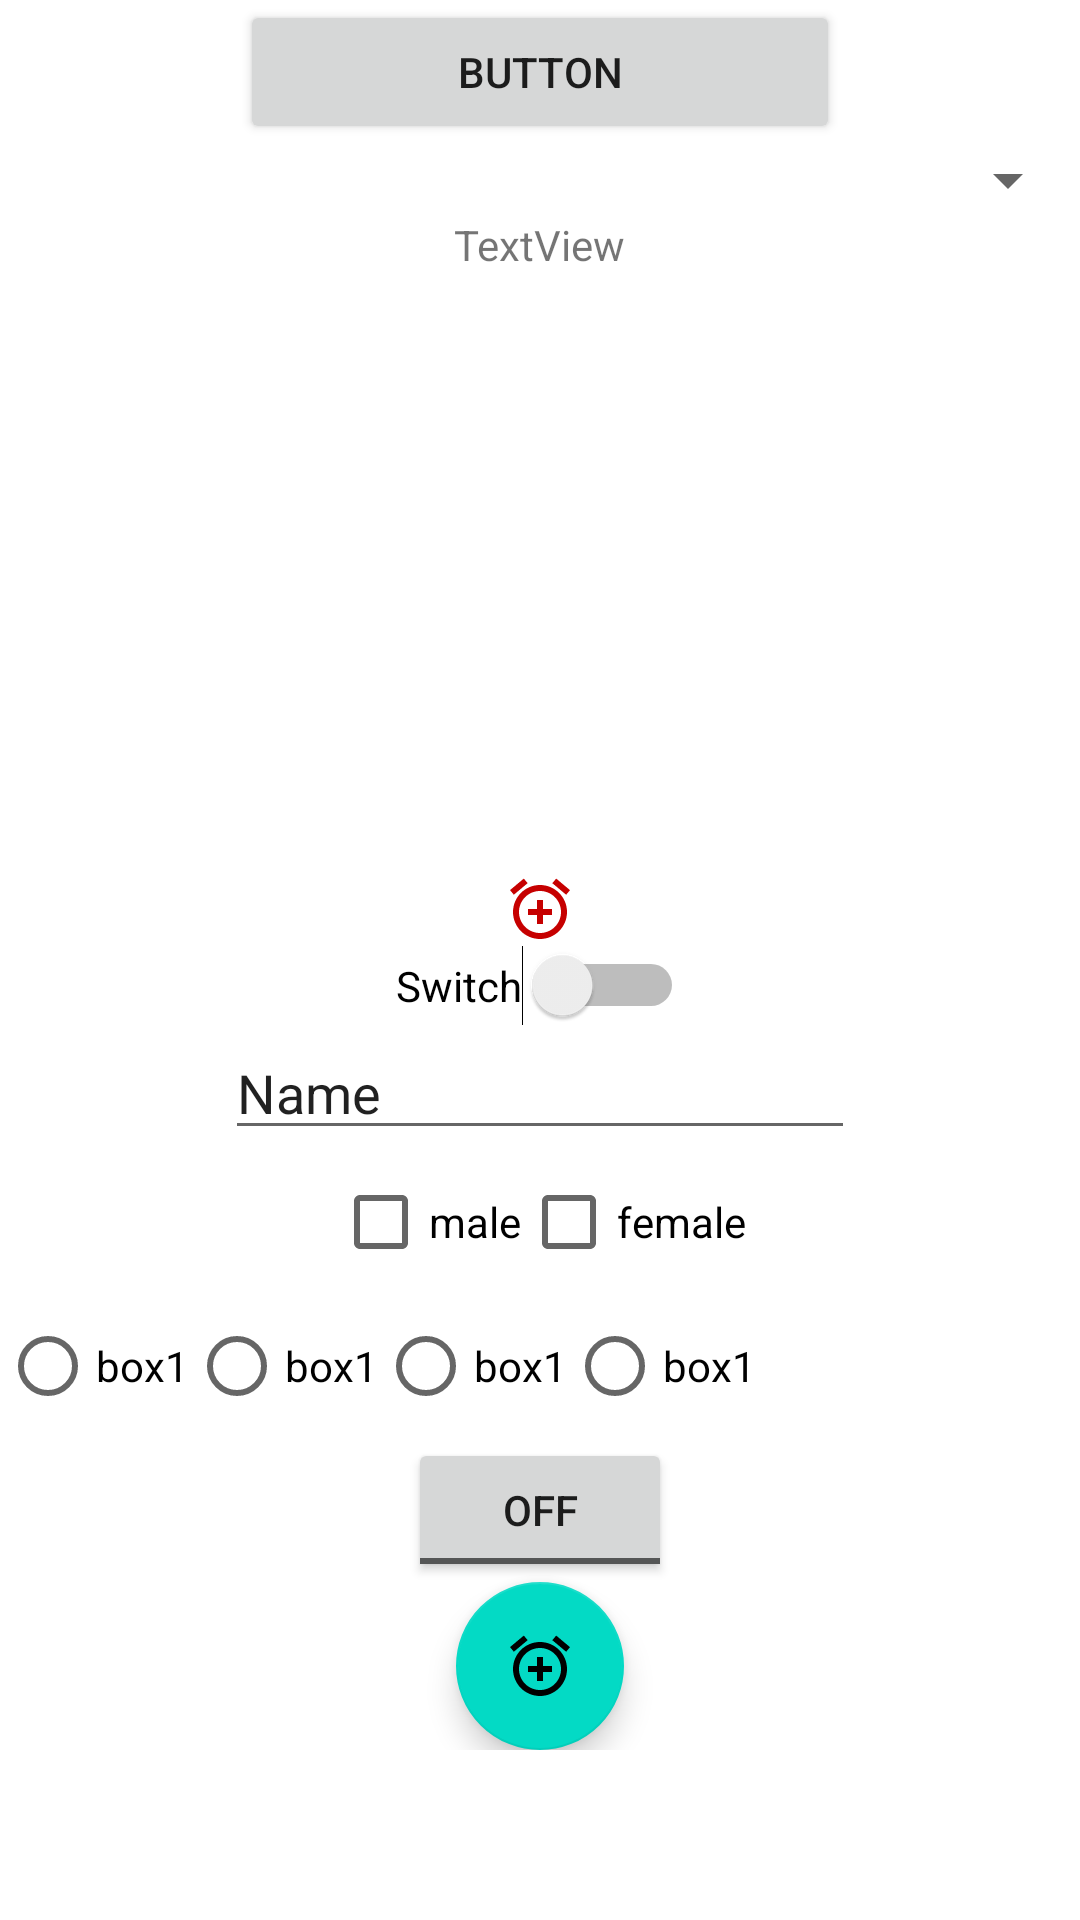

Icons on this 1080px×1920px Android screen, each with the point to tap as [x,y]:
add alarm: [540,908], [540,1666]
